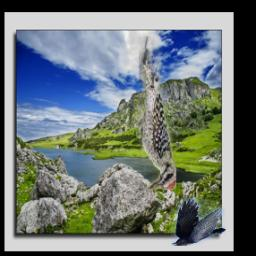Crow: (172, 199, 226, 247)
Woodpecker: (139, 36, 176, 190)
